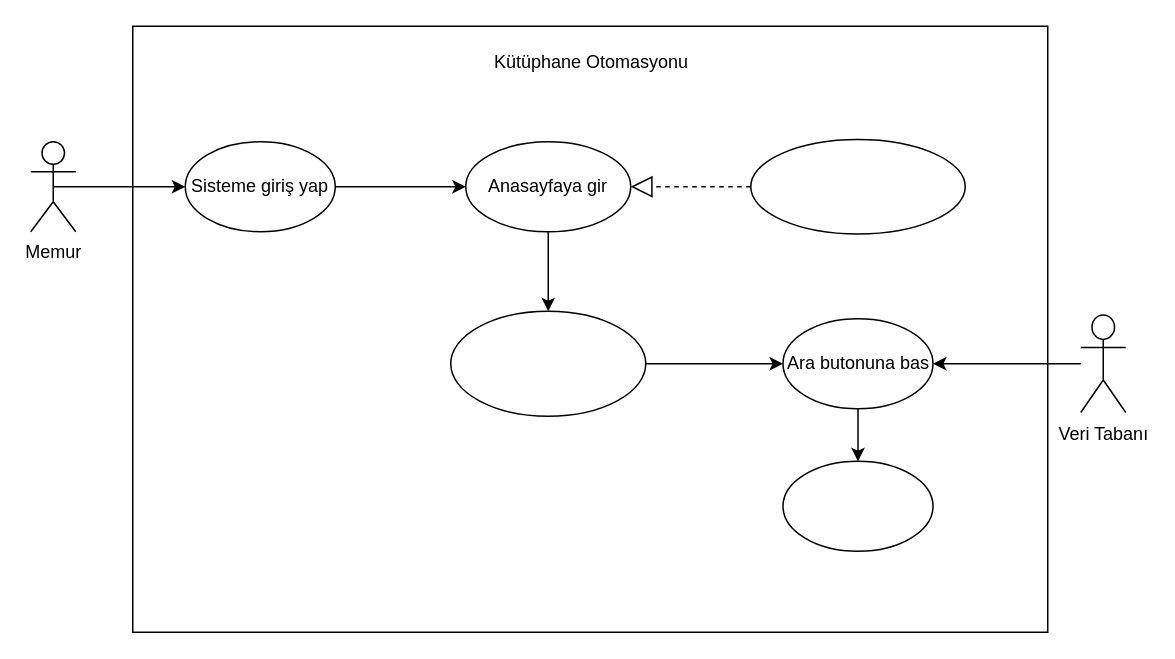
The diagram is 1175 pixels wide and 659 high, and some of its shapes have lost their labels. The centre of each missing label's shape, as x and y in pixels:
"Arama motoruna aratmak istediğini yaz" goes at (547,363).
"Kitabın neye göre aratılacağını filtreden belirle" goes at (857,186).
"Sonuçları görüntüle" goes at (857,505).
